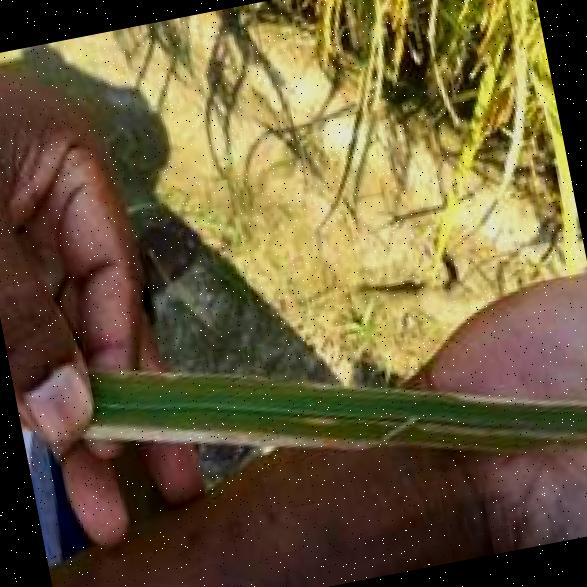Bacteria_Leaf_Blight: (58, 337, 421, 524)
